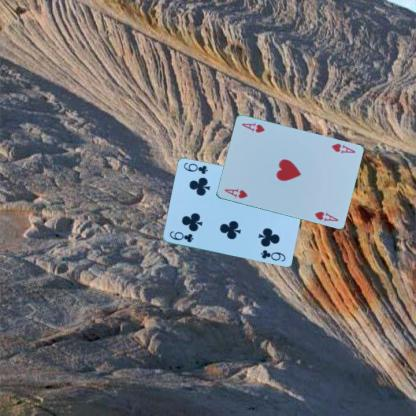6c: (167, 228, 194, 244)
Ah: (329, 141, 356, 155), (222, 186, 248, 200)
